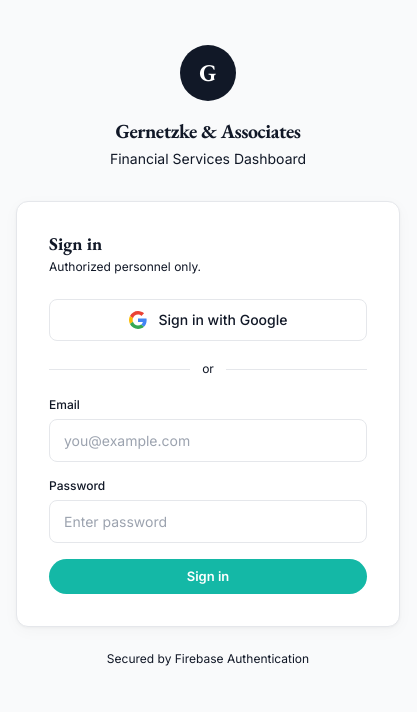
Test: LoginScreen › shows error on too many requests
Type "test@test.com" into the field labelled "Email" at (208, 441), box [49, 419, 367, 462]
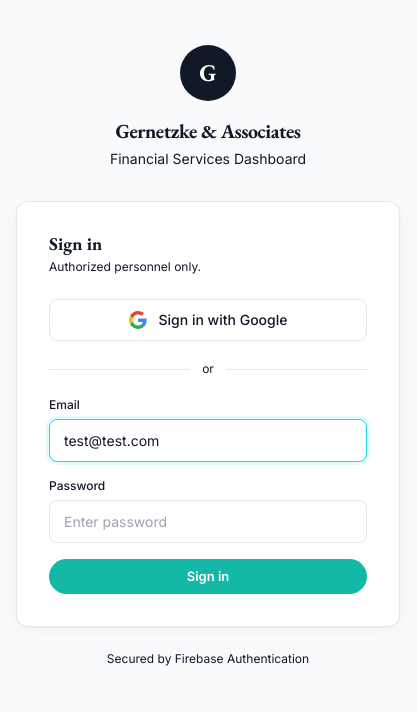
Type "wrong" into the password field labelled "Password" at (208, 522), box [49, 500, 367, 543]
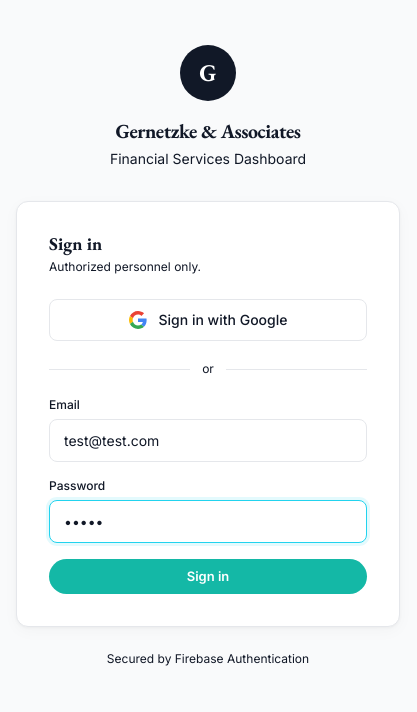
Click the button "Sign in" at (208, 576), box [49, 559, 367, 594]
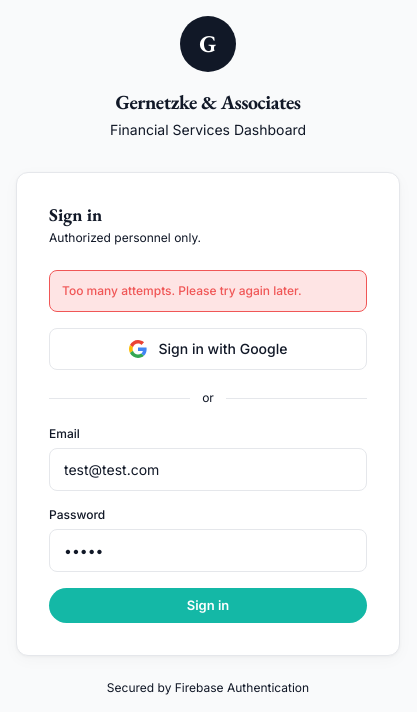
Expected: the text "Too many attempts. Please try again later." is shown, [49, 270, 367, 312]
